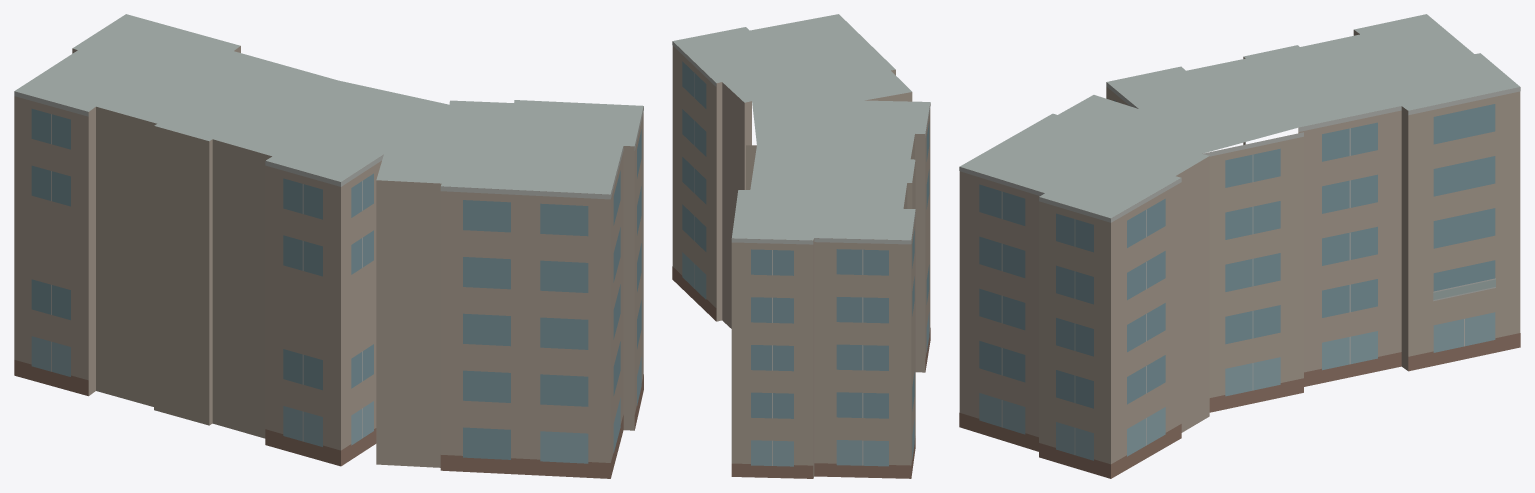
The model's file is survey-upis-32928385.glb.
3 views of the same model, side by side, from view 1: azimuth 30°, elevation 25°; view 2: azimuth 150°, elevation 25°; view 3: azimuth 270°, elevation 25° (orthographic). The views are drawn at different scales.
Parts seen in each view (by area): view 1: survey-upis-32928385.tmp; view 2: survey-upis-32928385.tmp; view 3: survey-upis-32928385.tmp.
Part boxes in pixels (x1,y1,x2,y2): survey-upis-32928385.tmp: (14,14,643,478); survey-upis-32928385.tmp: (672,14,930,478); survey-upis-32928385.tmp: (959,14,1520,478).
Bounding box in the file's own units: 23.9 × 14.2 × 27.72.
